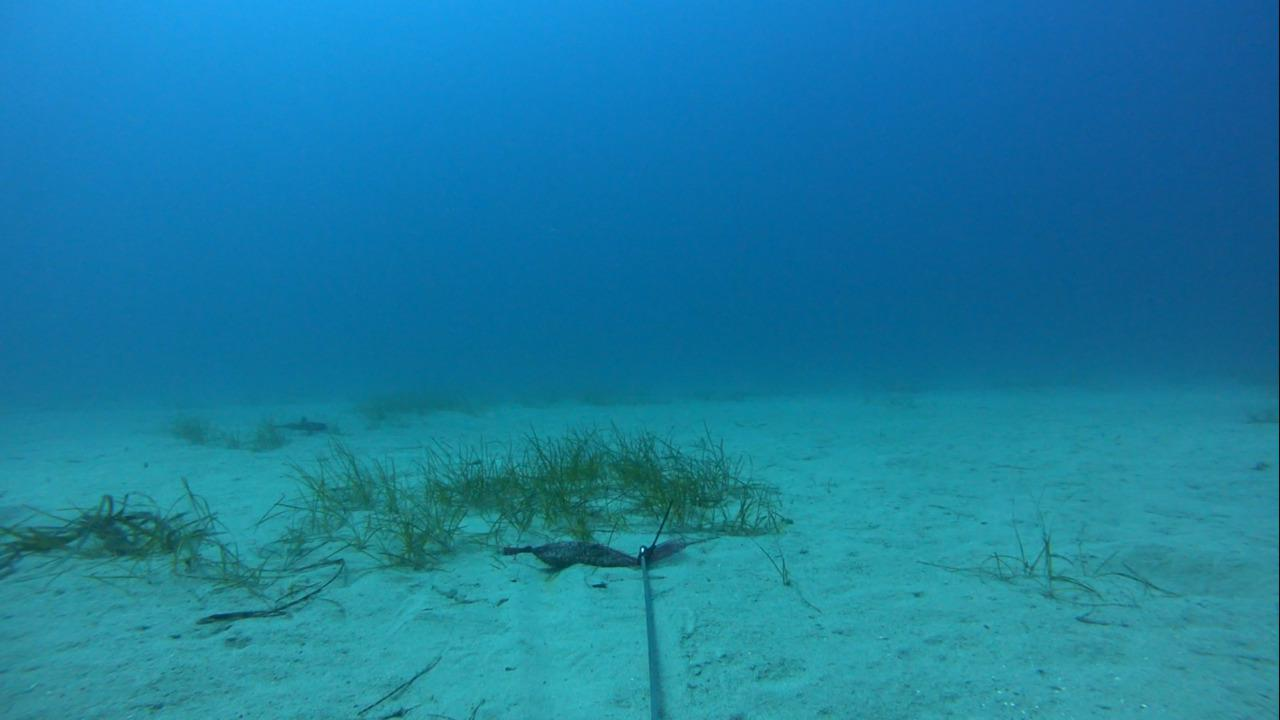dactylopterus: (267, 411, 331, 439)
